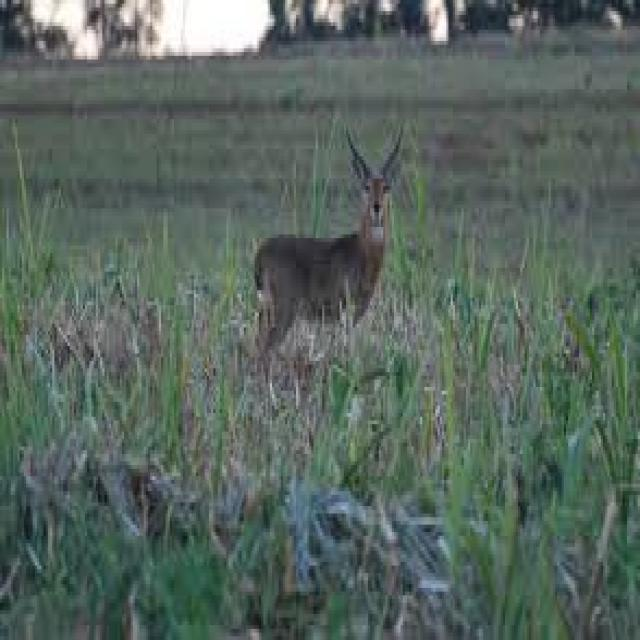Antelope: (247, 122, 410, 407)
